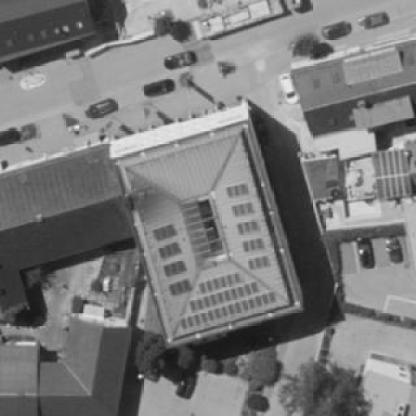solar-pv-panel: (180, 291, 276, 330), (190, 281, 259, 312), (180, 201, 212, 259), (200, 200, 223, 252), (200, 270, 241, 293), (155, 225, 175, 240), (169, 280, 189, 295), (165, 261, 184, 276), (161, 243, 180, 258), (237, 220, 258, 233), (233, 202, 254, 215), (226, 184, 247, 197), (248, 257, 269, 269), (243, 239, 263, 251)
